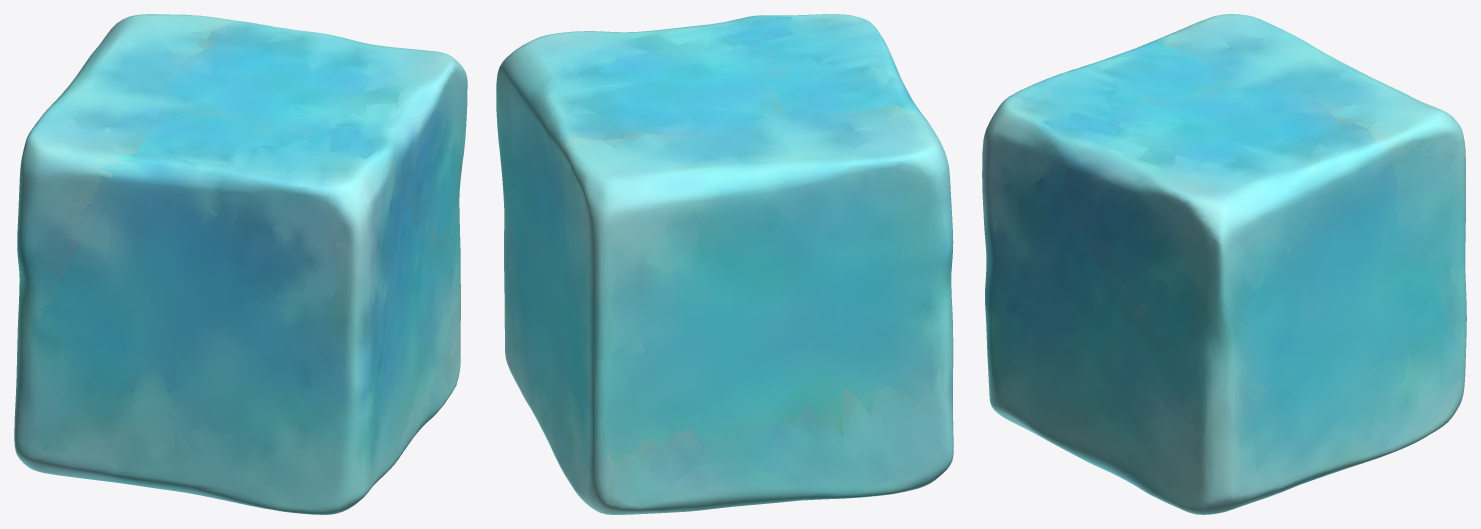
Rendered from cubo_hielo.glb.
The picture shows the model from 3 angles, left to right: view 1: azimuth 30°, elevation 25°; view 2: azimuth 150°, elevation 25°; view 3: azimuth 270°, elevation 25°; orthographic projection. The views are drawn at different scales.
Parts seen in each view (by area): view 1: cubo_hielo_malla; view 2: cubo_hielo_malla; view 3: cubo_hielo_malla.
Part boxes in pixels (x1=…): cubo_hielo_malla: x1=14, y1=14, x2=467, y2=514; cubo_hielo_malla: x1=496, y1=14, x2=953, y2=514; cubo_hielo_malla: x1=982, y1=14, x2=1466, y2=514.
Size of the model in its own units: 0.1408 by 0.0993 by 0.1374.
Materials: 1 (1 with a texture image).
